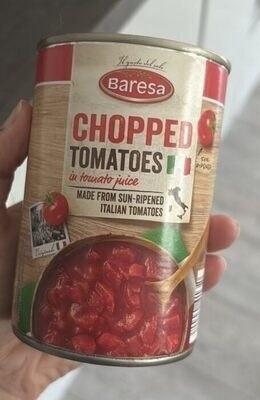Gehackte Tomaten in Tomatensaft: (13, 20, 247, 380)
